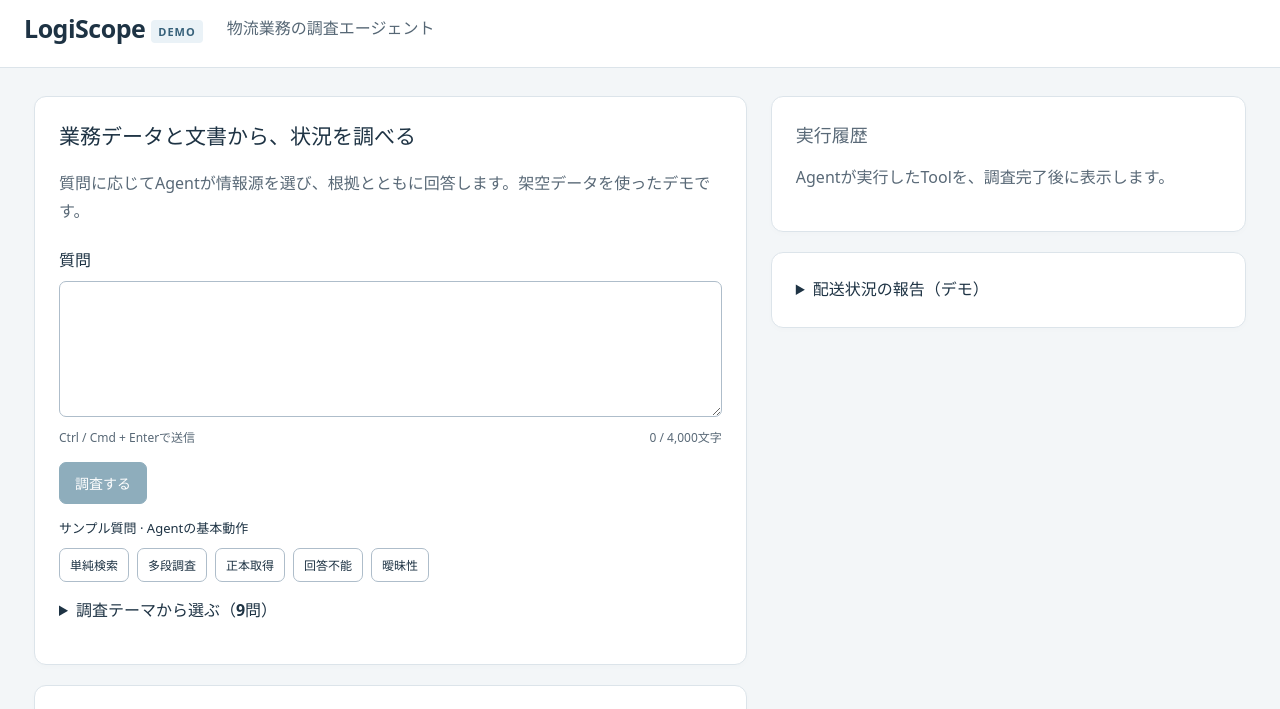
Test case: ending wait prevents old response overwriting a new result
In the text box labelled "質問": (390, 349) [59, 280, 722, 417], type "遅延原因は？"
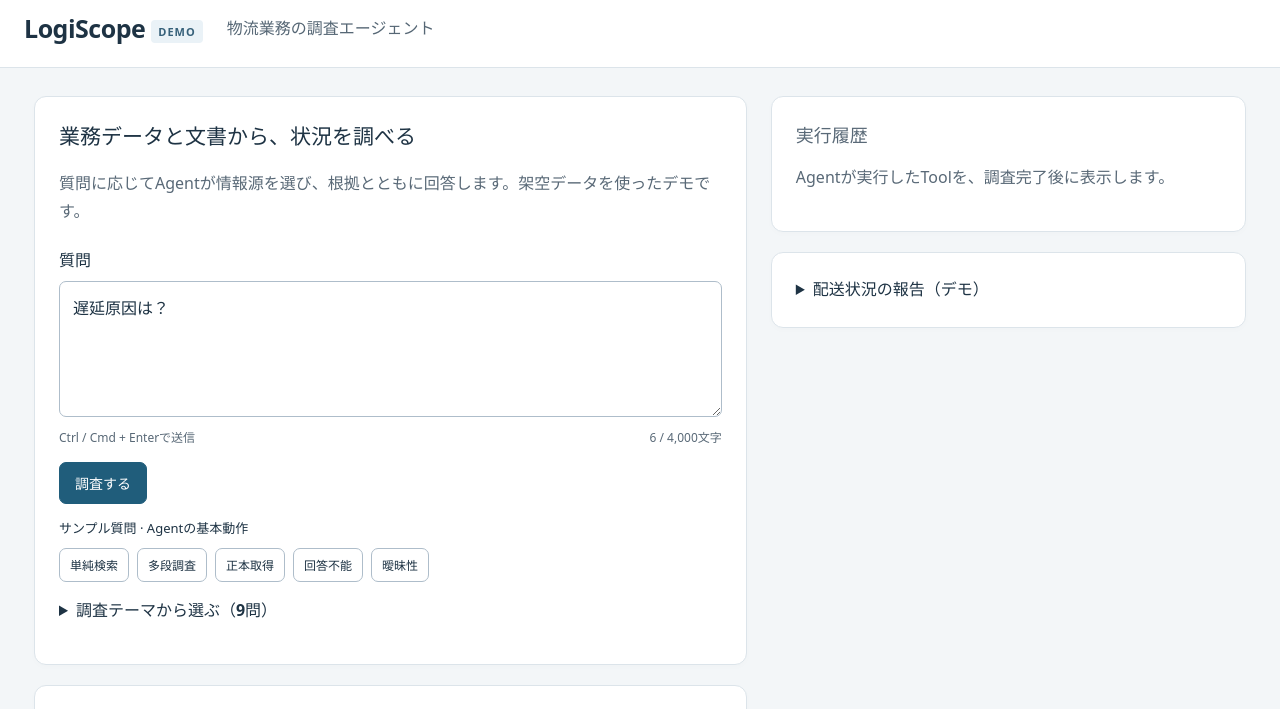
Submit the form "調査する", box [59, 246, 722, 504]
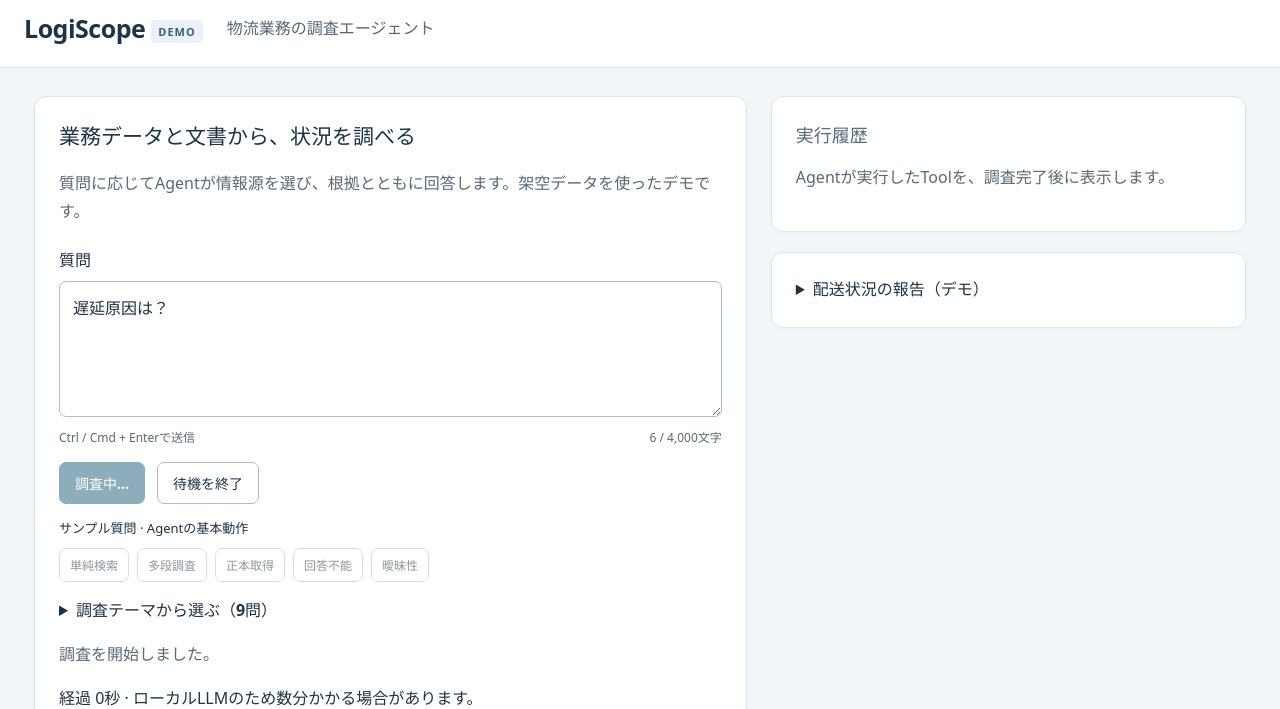
Click the button "待機を終了": (208, 483) [157, 462, 259, 504]
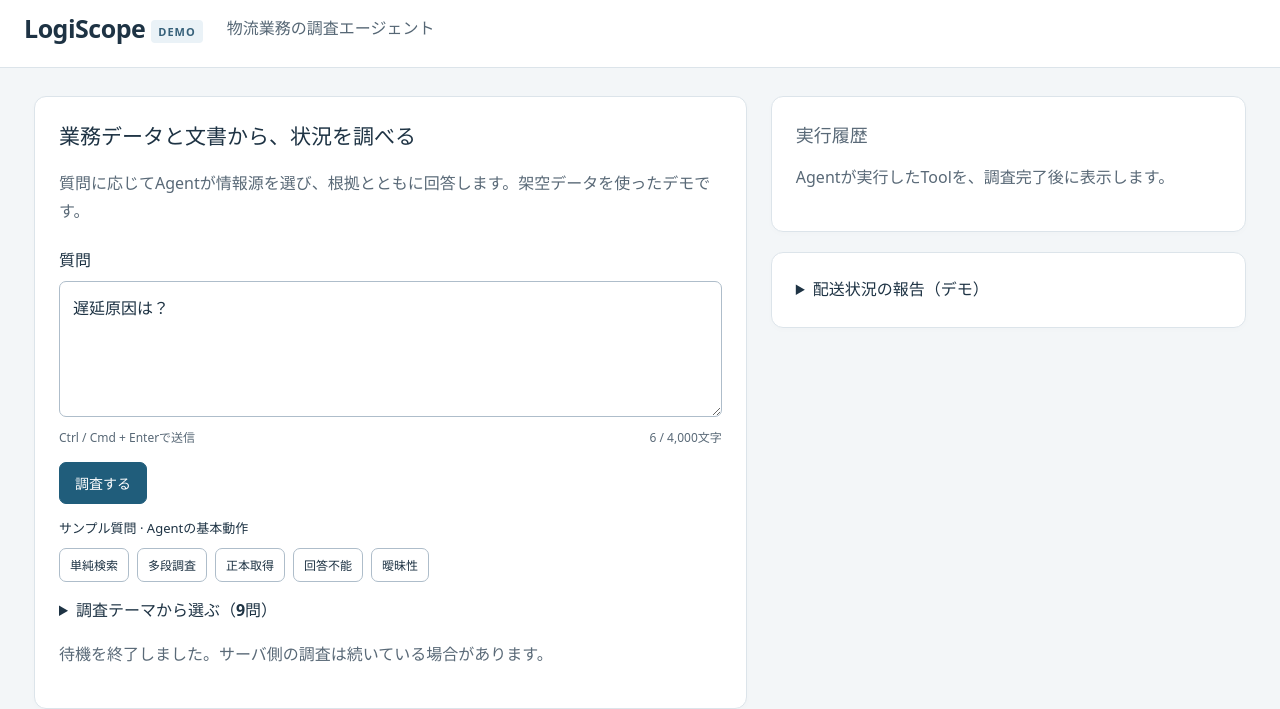
Replace the text in the text box labelled "質問" with "次の質問": (390, 349) [59, 280, 722, 417]
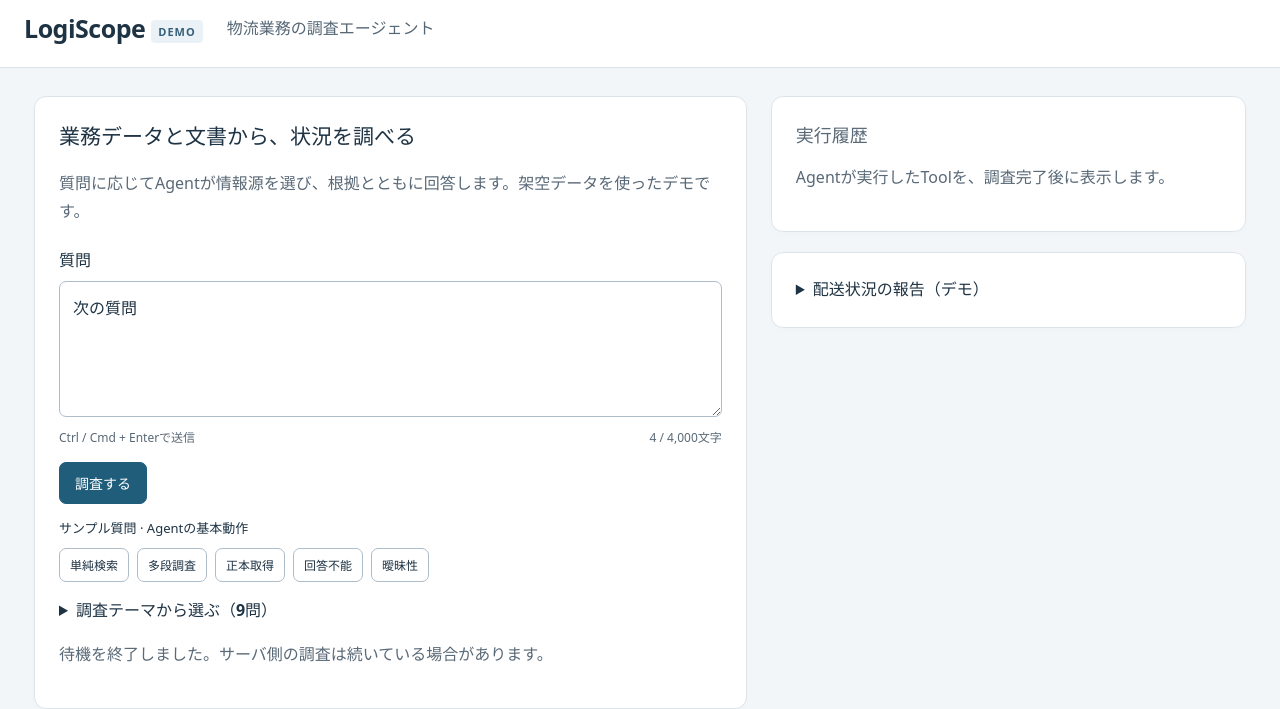
Submit the form "調査する", box [59, 246, 722, 504]
(page scrolled)
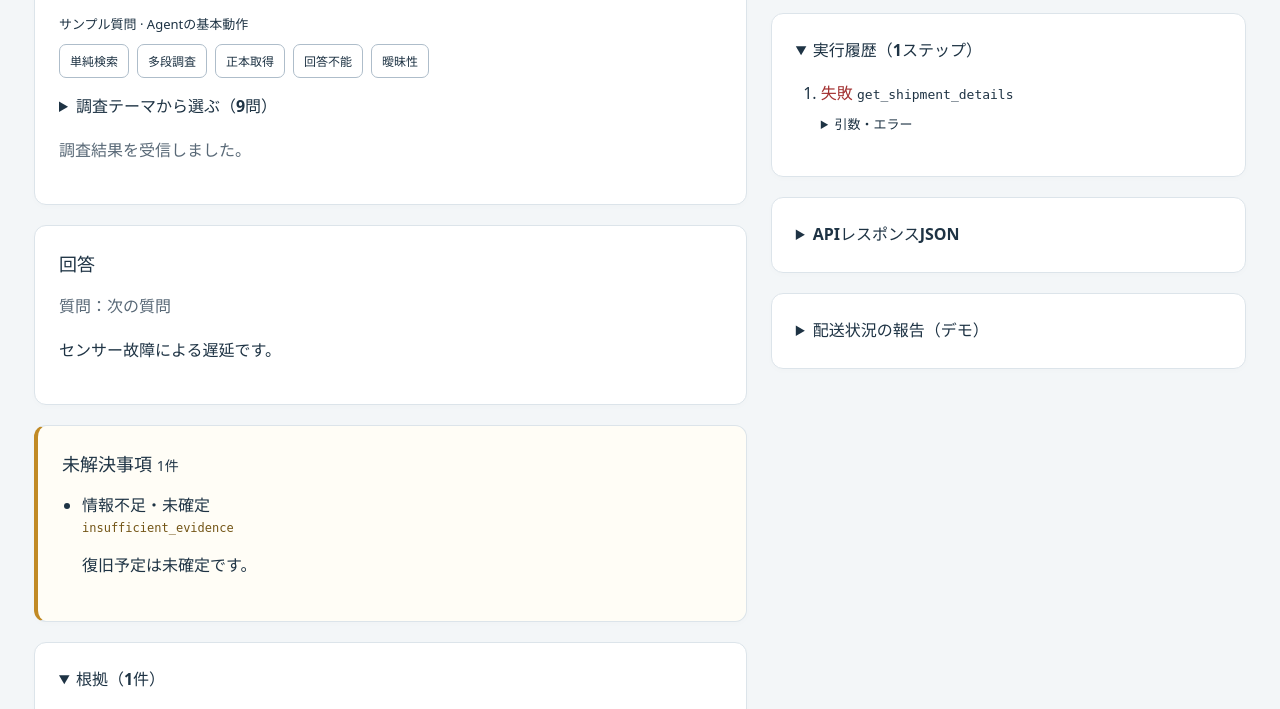
Expected: the text "センサー故障による遅延です。" is shown, [59, 339, 281, 361]
